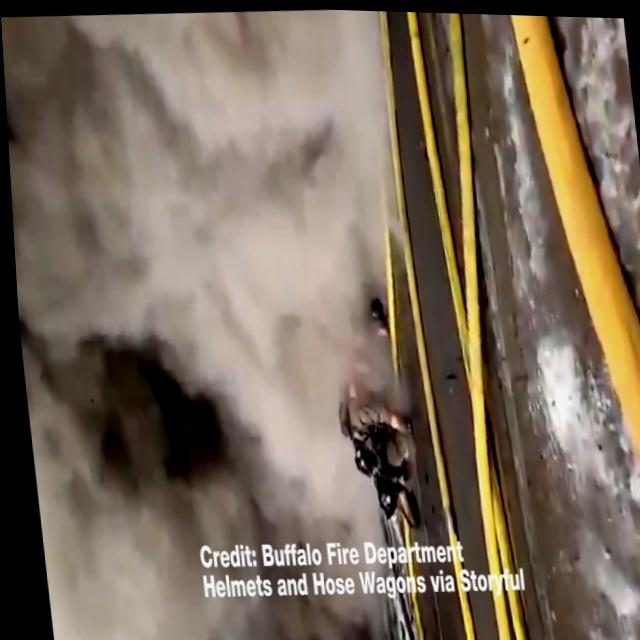Smoke: (0, 0, 418, 397)
